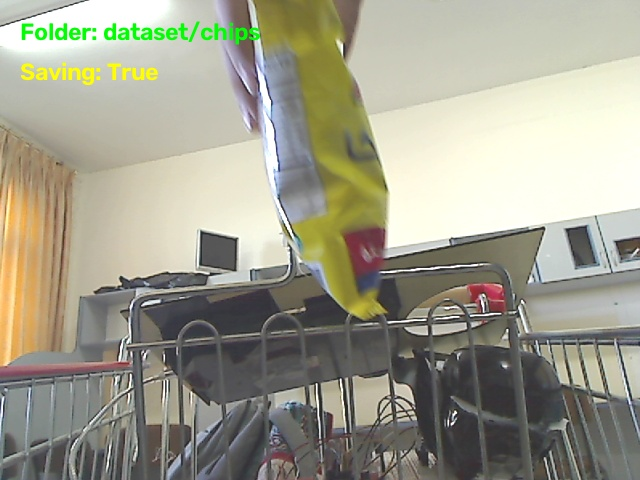chips: (252, 0, 387, 319)
